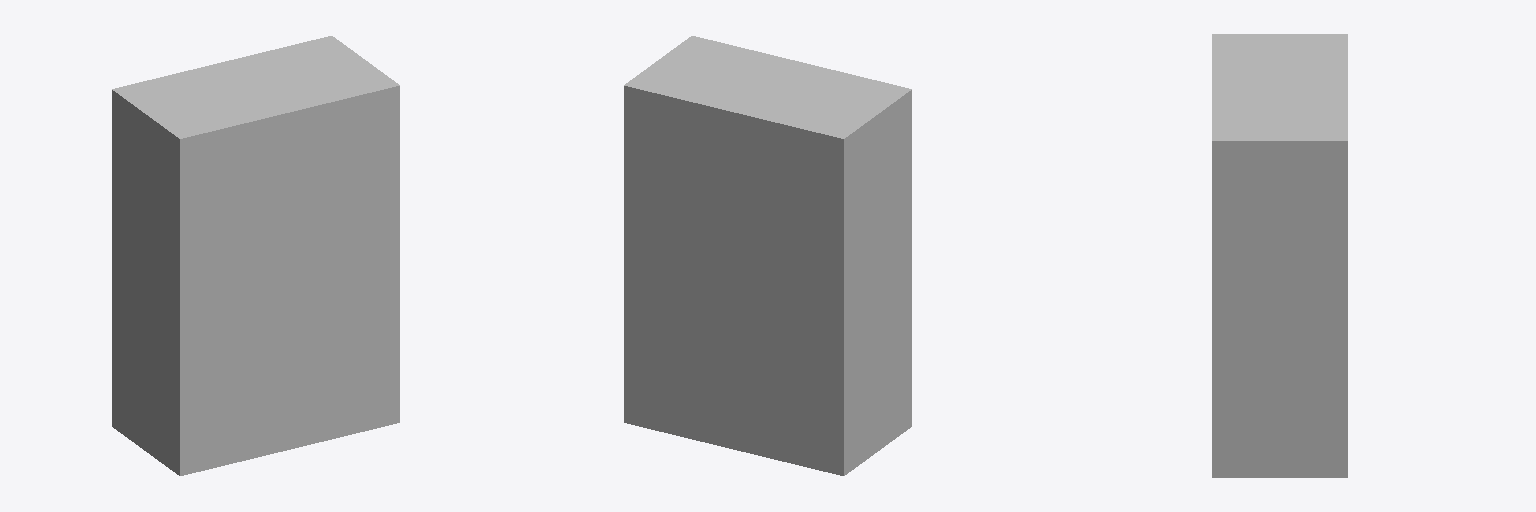
The model's file is ActorBody.obj.
The picture shows the model from 3 angles: view 1: azimuth 30°, elevation 25°; view 2: azimuth 150°, elevation 25°; view 3: azimuth 270°, elevation 25°; orthographic projection.
Parts seen in each view (by area): view 1: ActorBody_Cube; view 2: ActorBody_Cube; view 3: ActorBody_Cube.
Part boxes in pixels (x1,y1,x2,y2): ActorBody_Cube: (112,36,399,475); ActorBody_Cube: (624,36,911,475); ActorBody_Cube: (1212,34,1347,477).
Size of the model in its own units: 0.54 by 0.79 by 0.29.